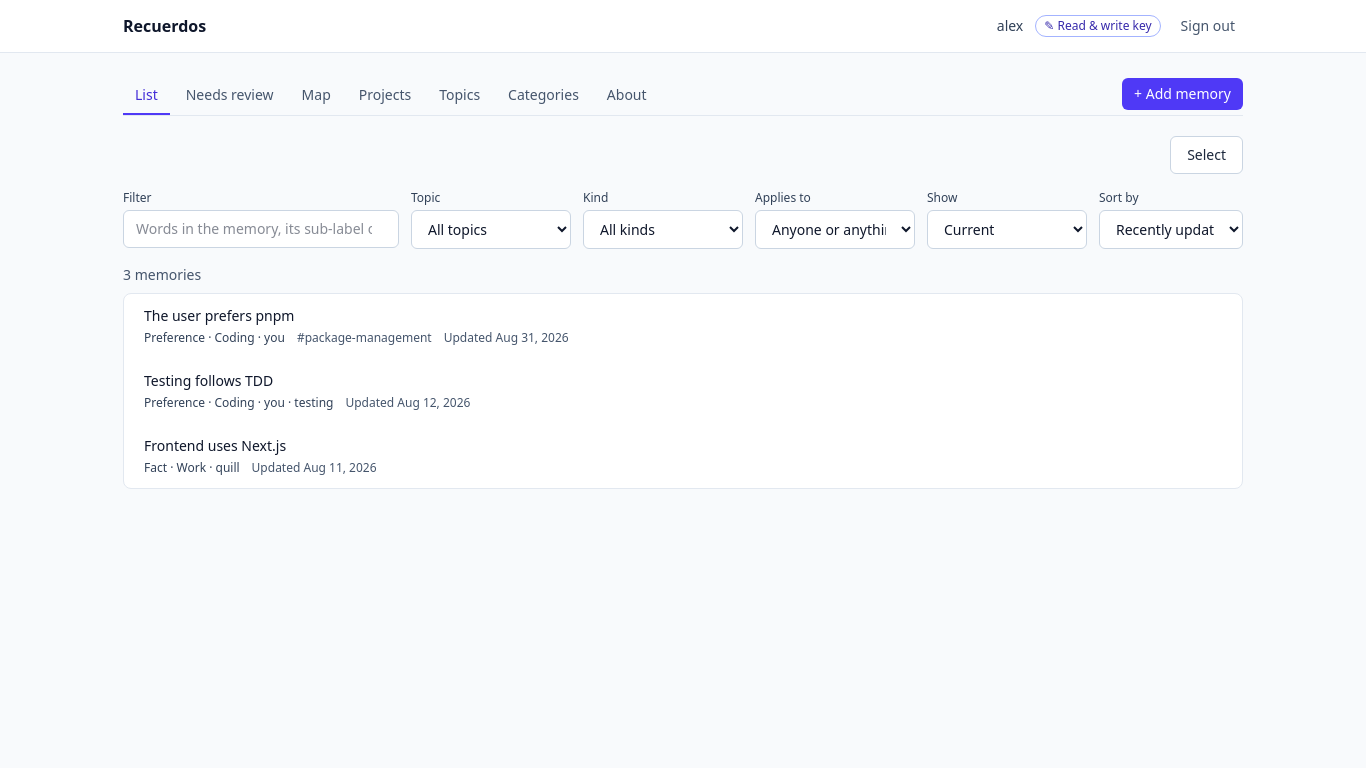
it: the map view › opens the editor when a memory on the map is clicked
Click the link "Map" at [316, 94], box [302, 85, 331, 104]
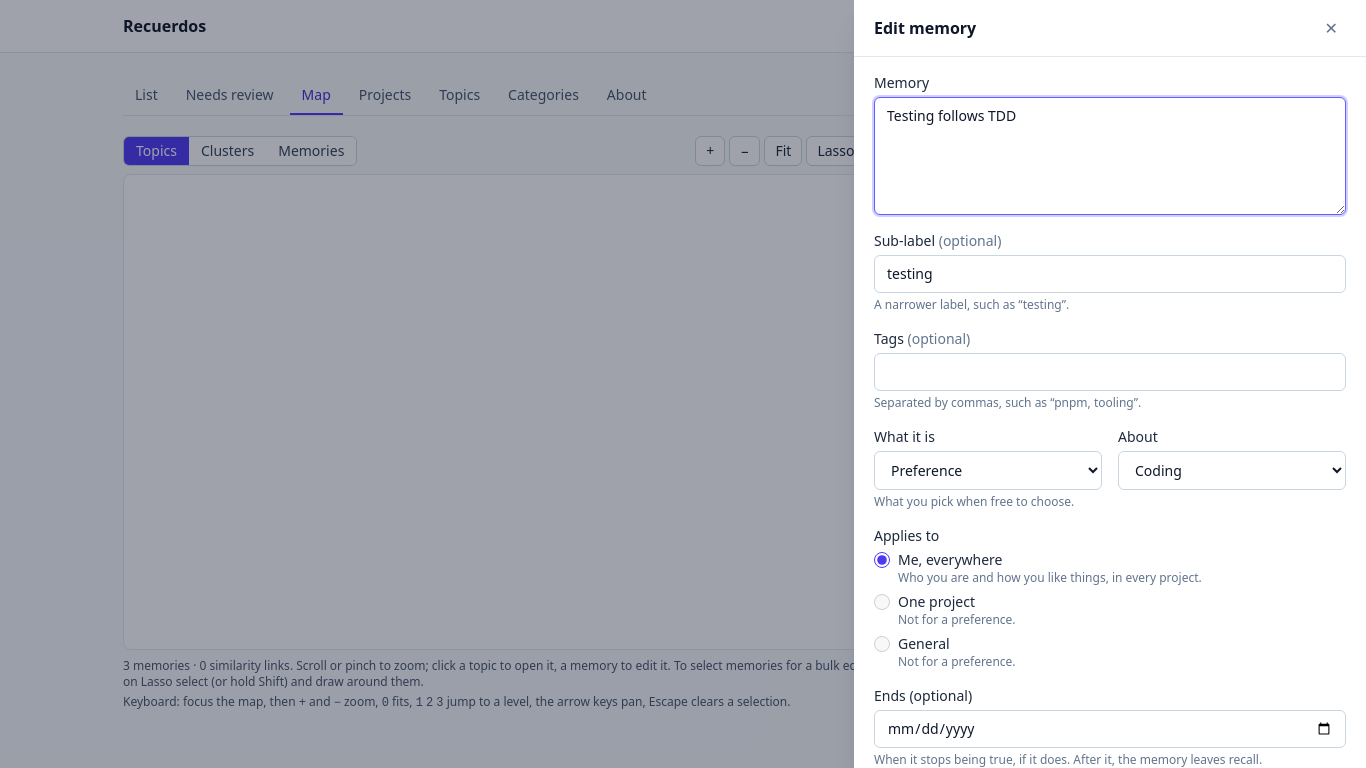
Expected: the element named "Map of 3 memories" is shown, [123, 174, 907, 650]
Expected: the text box labelled "Memory" holds "Testing follows TDD", [874, 97, 1346, 215]
